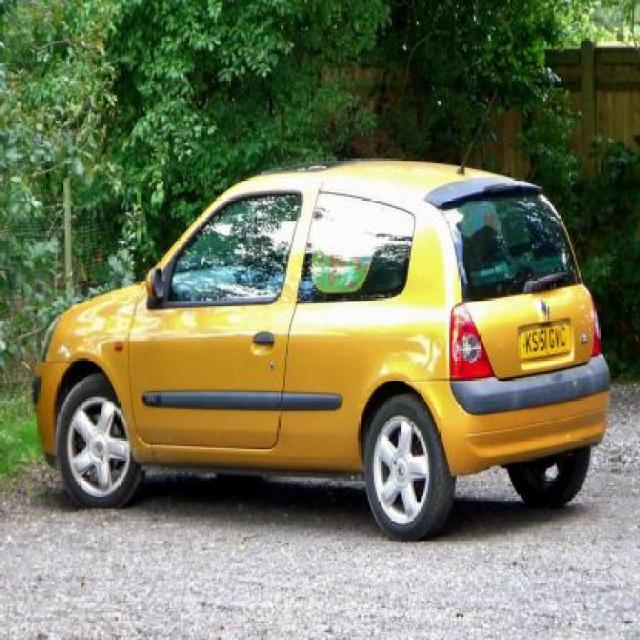License-Plates: (512, 318, 576, 364)
